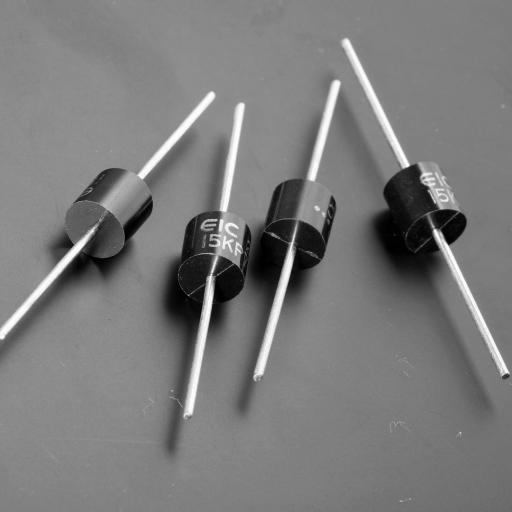DIODE: (372, 112, 496, 331), (60, 136, 170, 305), (263, 160, 348, 330), (167, 182, 253, 346)
